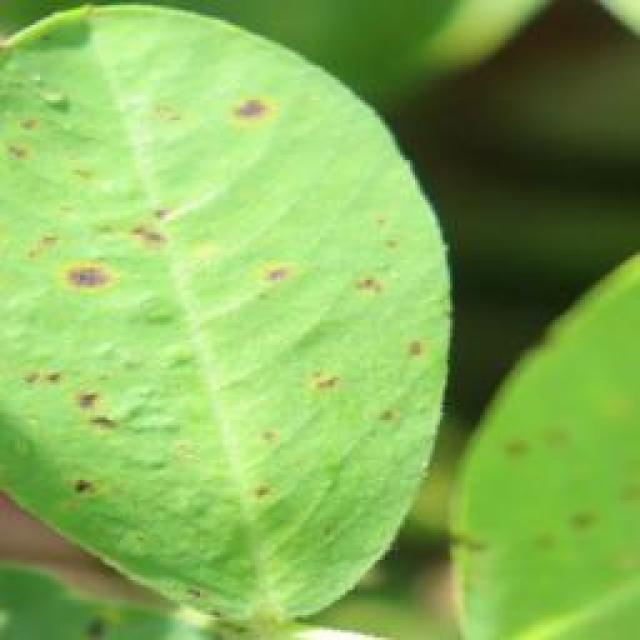Sigatoka: (10, 342, 134, 508), (42, 192, 188, 293), (1, 93, 101, 210), (308, 217, 408, 311), (235, 324, 345, 406), (194, 76, 308, 154), (233, 226, 306, 310), (373, 323, 443, 381), (231, 476, 275, 522)
